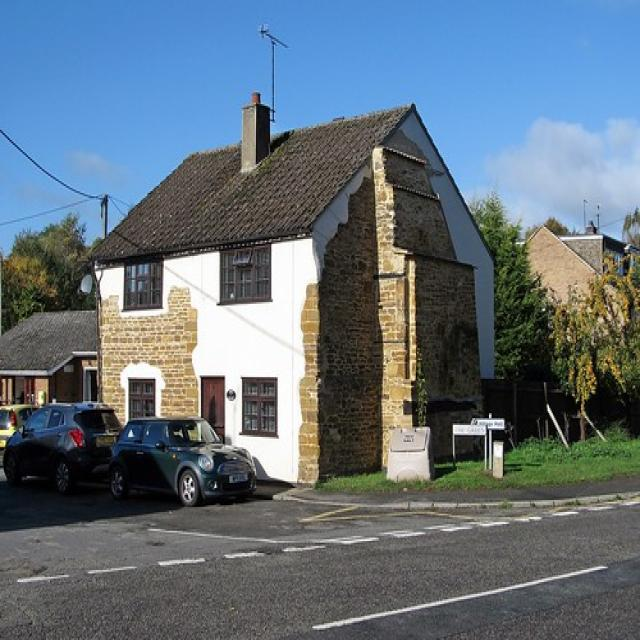building: (91, 92, 505, 493)
